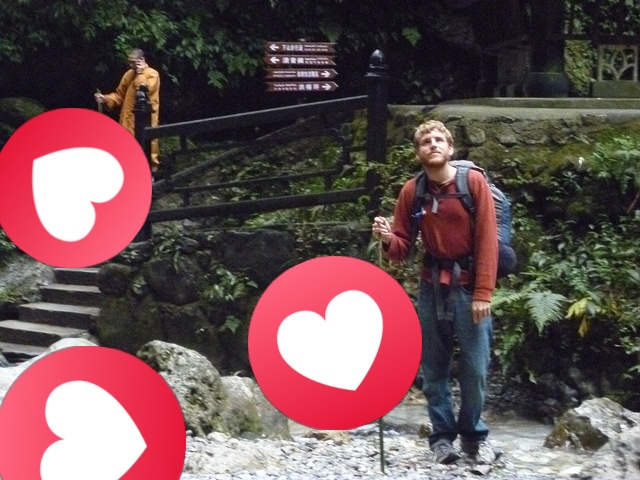love: (248, 256, 422, 430), (0, 346, 186, 480), (0, 108, 152, 268)
